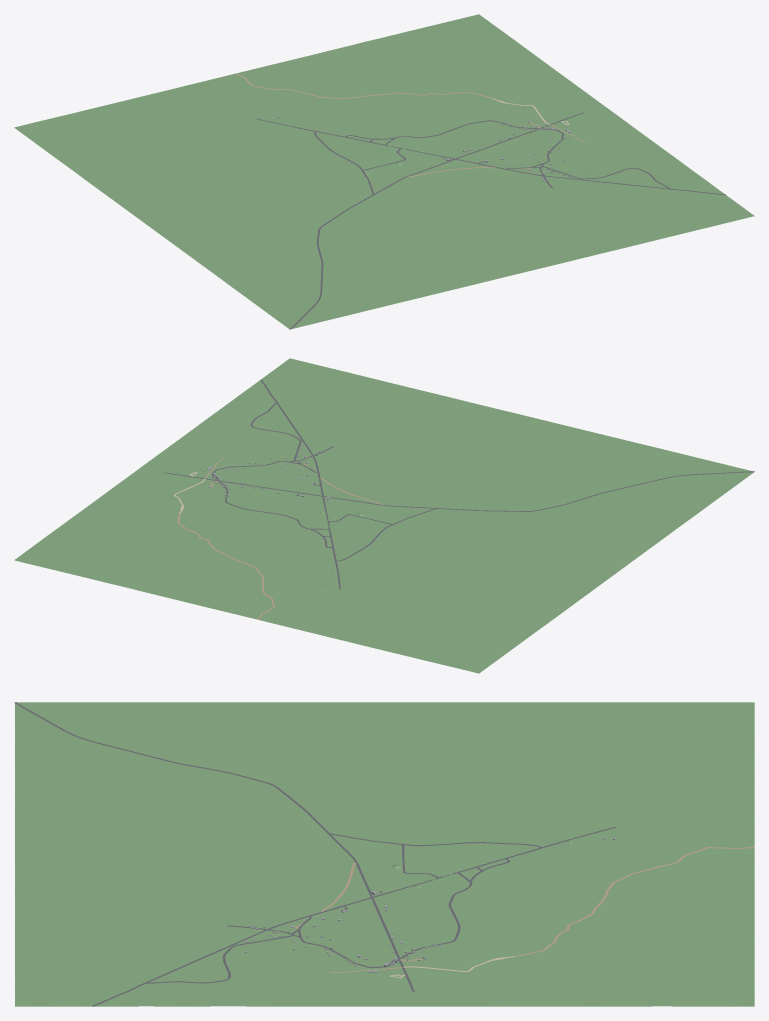
File: juliette-ga.glb
3 views of the same model, one above another, from view 1: azimuth 30°, elevation 25°; view 2: azimuth 150°, elevation 25°; view 3: azimuth 270°, elevation 25° (orthographic). The views are drawn at different scales.
Parts seen in each view (by area): view 1: terrain, roads-tarmac, roads-dirt_road; view 2: terrain, roads-tarmac; view 3: terrain, roads-tarmac, roads-dirt_road, buildings.
Boxes of the visible parts, box(x1,y1,x2,y2) form: terrain: box(14, 14, 754, 328); roads-tarmac: box(256, 112, 725, 329); roads-dirt_road: box(235, 73, 585, 176); terrain: box(14, 358, 753, 673); roads-tarmac: box(164, 379, 754, 589); terrain: box(15, 702, 754, 1006); roads-tarmac: box(14, 702, 615, 1006); roads-dirt_road: box(278, 846, 754, 972); buildings: box(245, 837, 616, 974).
Bounding box in the file's own units: 5516 × 13.81 × 5667.
